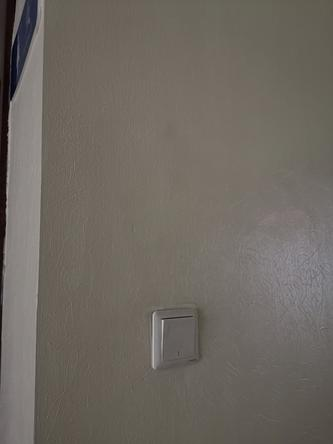switch: (157, 311, 200, 363)
